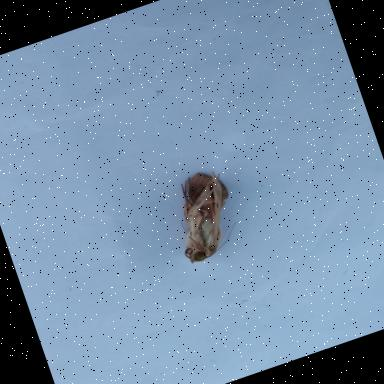abw: (156, 160, 252, 270)
